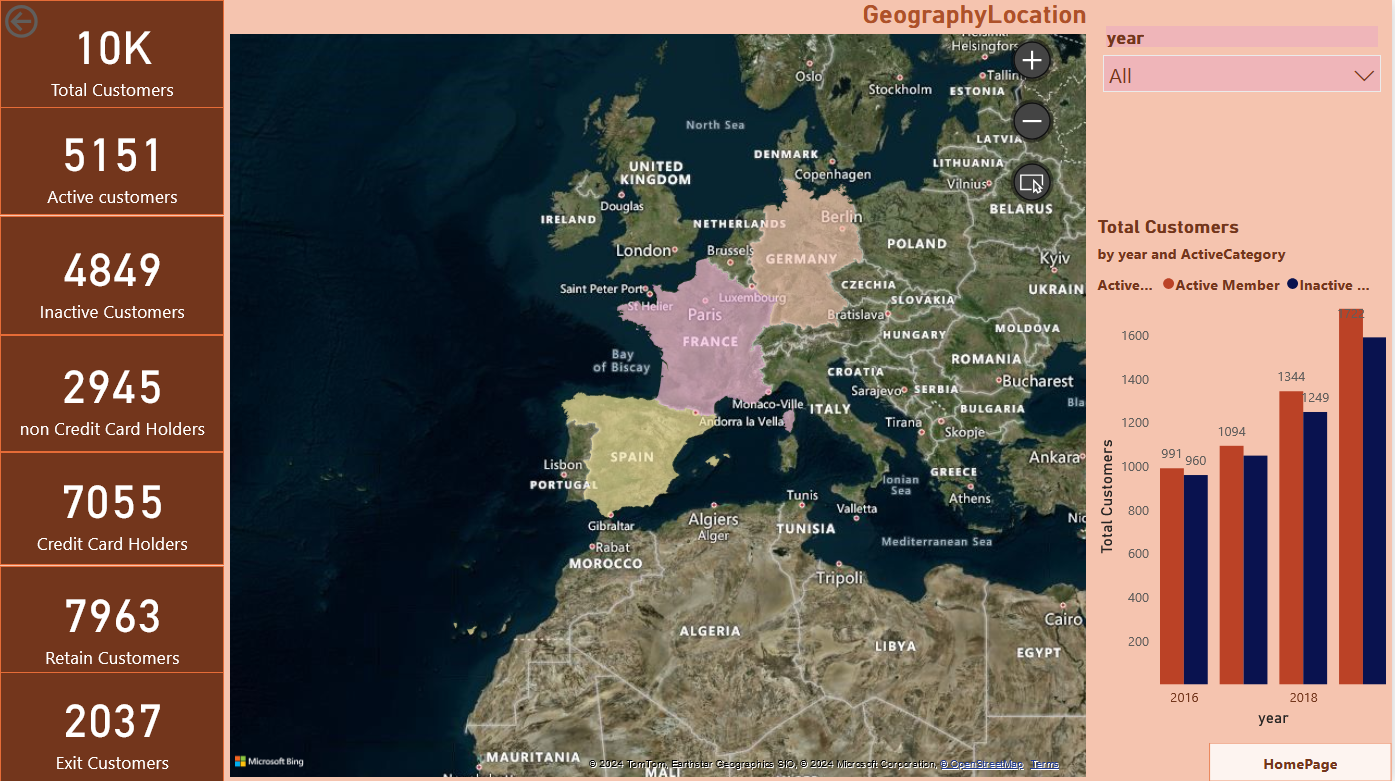

The page's visual inventory and layout, read from the dashboard file:
{"tool":"powerbi","page":{"name":"CountryWise","canvas":[1280,720],"ordinal":1},"visuals":[{"type":"card","fields":{"Values":["Calculations.Total Customers"]},"box":[0,0,205.9,100],"z":0},{"type":"card","fields":{"Values":["Calculations.Active customers"]},"box":[0,98,205.9,100],"z":1000},{"type":"card","fields":{"Values":["Calculations.Inactive Customers"]},"box":[0,198,205.9,109.8],"z":2000},{"type":"card","fields":{"Values":["Calculations.Credit Card Holders"]},"box":[0,415.7,205.9,103.9],"z":3000},{"type":"card","fields":{"Values":["Calculations.non Credit Card Holders"]},"box":[0,307.8,205.9,107.8],"z":4000},{"type":"card","fields":{"Values":["Calculations.Retain Customers"]},"box":[0,519.6,205.9,103.9],"z":5000},{"type":"card","fields":{"Values":["Calculations.Exit Customers"]},"box":[0,617.6,205.9,102],"z":6000},{"type":"filledMap","fields":{"Category":["Geography.GeographyLocation"]},"box":[205.9,0,798,719.2],"z":7000},{"type":"slicer","title":"Country","fields":{"Values":["Geography.GeographyLocation"]},"box":[1003.9,0,275.6,118.1],"z":8000},{"type":"clusteredColumnChart","fields":{"Y":["Calculations.Total Customers"],"Series":["ActiveCustomer.ActiveCategory"],"Category":["DateMaster.year","DateMaster.month name"]},"box":[1003.9,198.4,275.6,473.9],"z":9000},{"type":"pageNavigator","box":[1111.4,682.9,168.1,36.3],"z":10000}]}

Visuals, with their boxes in screenshot pixels (x1, y1, x2, y2), scaled from the page's 1280x720 canvas onto the 1395x781 screenshot:
card - Calculations.Total Customers: (0,0,224,108)
card - Calculations.Active customers: (0,106,224,215)
card - Calculations.Inactive Customers: (0,215,224,334)
card - Calculations.Credit Card Holders: (0,451,224,564)
card - Calculations.non Credit Card Holders: (0,334,224,451)
card - Calculations.Retain Customers: (0,564,224,676)
card - Calculations.Exit Customers: (0,670,224,780)
filledMap - Geography.GeographyLocation: (224,0,1094,780)
"Country" slicer: (1094,0,1394,128)
clusteredColumnChart - Calculations.Total Customers x ActiveCustomer.ActiveCategory: (1094,215,1394,729)
pageNavigator: (1211,741,1394,780)
